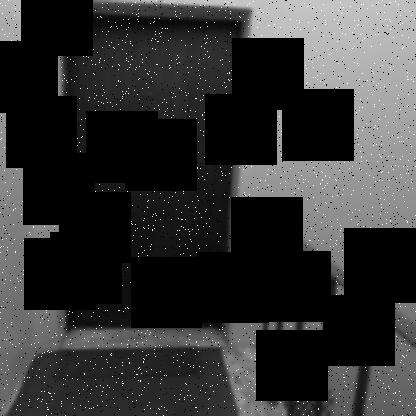Porte: (60, 10, 242, 330)
